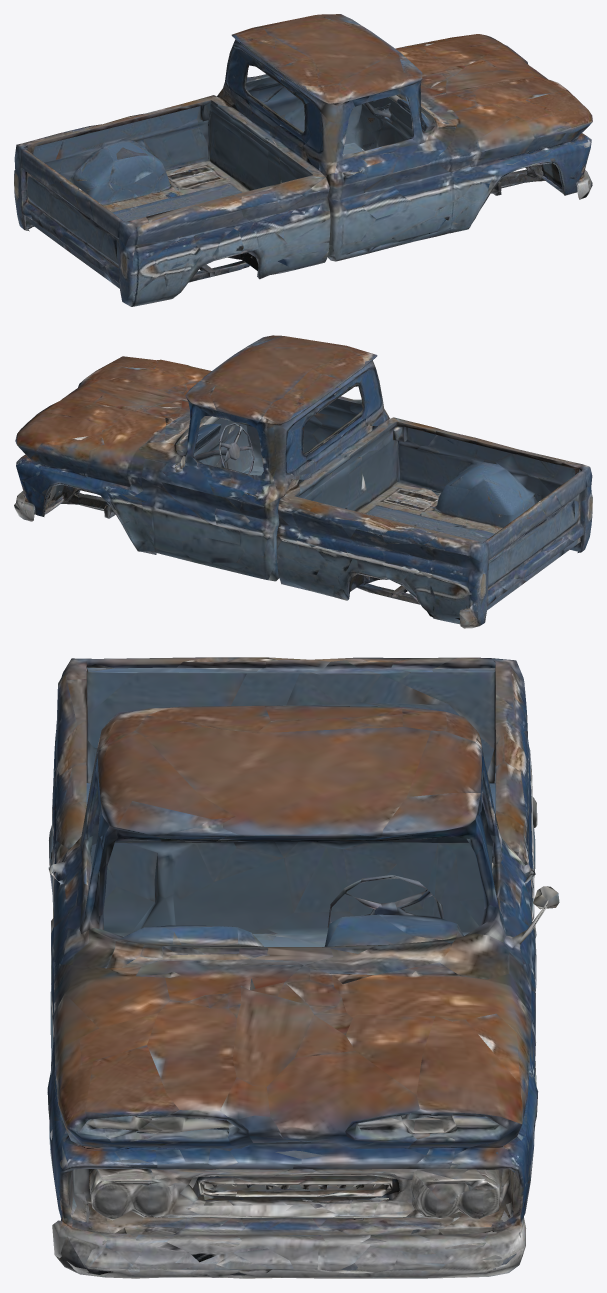
The model's file is chevy_pu.glb.
The picture shows the model from 3 angles, top to bottom: view 1: azimuth 30°, elevation 25°; view 2: azimuth 150°, elevation 25°; view 3: azimuth 270°, elevation 25°; orthographic projection. The views are drawn at different scales.
Parts seen in each view (by area): view 1: chevy_pu; view 2: chevy_pu; view 3: chevy_pu.
Part boxes in pixels (box(x1,y1,x2,y2)): chevy_pu: box(14, 14, 592, 306); chevy_pu: box(14, 335, 592, 628); chevy_pu: box(47, 657, 559, 1278).
Size of the model in its own units: 5.1 by 1.77 by 2.38.
1 material, 1 textured.
